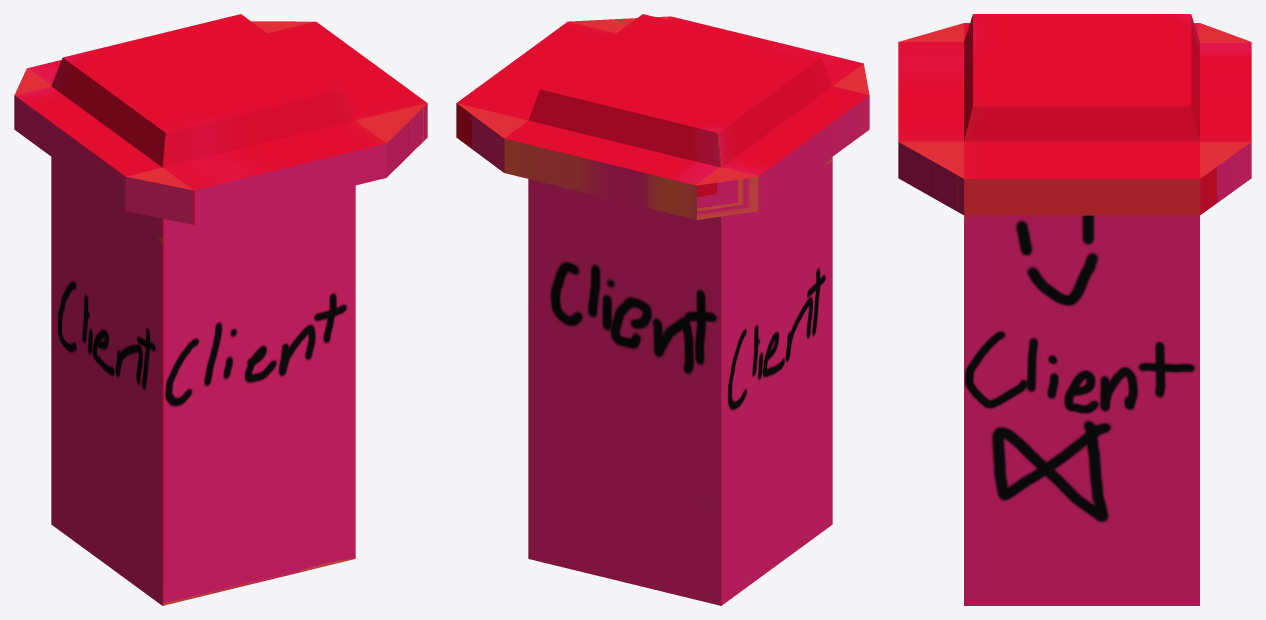
The model's file is Client.gltf.
3 views of the same model, side by side, from view 1: azimuth 30°, elevation 25°; view 2: azimuth 150°, elevation 25°; view 3: azimuth 270°, elevation 25° (orthographic). The views are drawn at different scales.
Visible parts, largest first — view 1: Cube; view 2: Cube; view 3: Cube.
Boxes of the visible parts, x1,y1,x2,y2 form: Cube: (14, 14, 427, 605); Cube: (456, 14, 869, 605); Cube: (898, 14, 1251, 605).
Size of the model in its own units: 3.13 by 4.64 by 3.
1 material, 1 textured.
